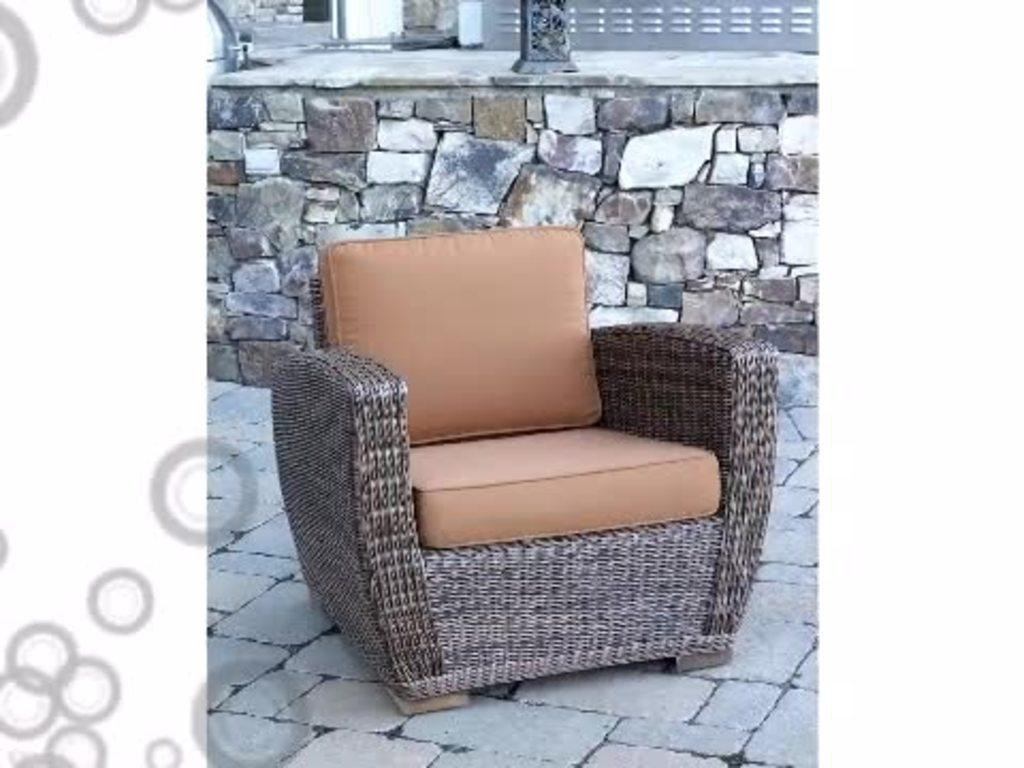Chair: (262, 218, 783, 717)
